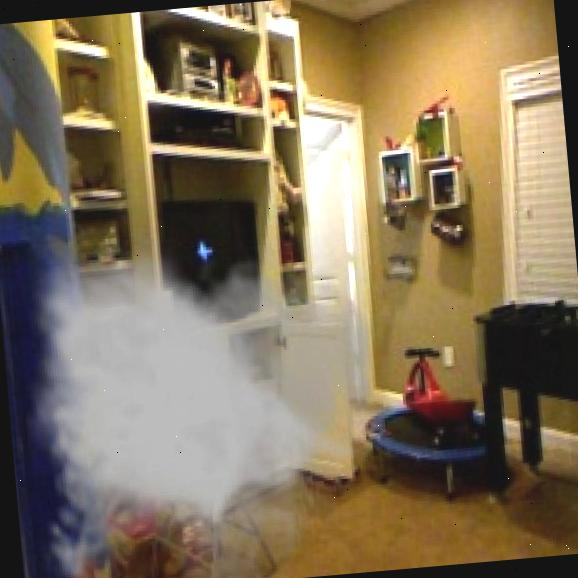smoke: (11, 216, 398, 578)
